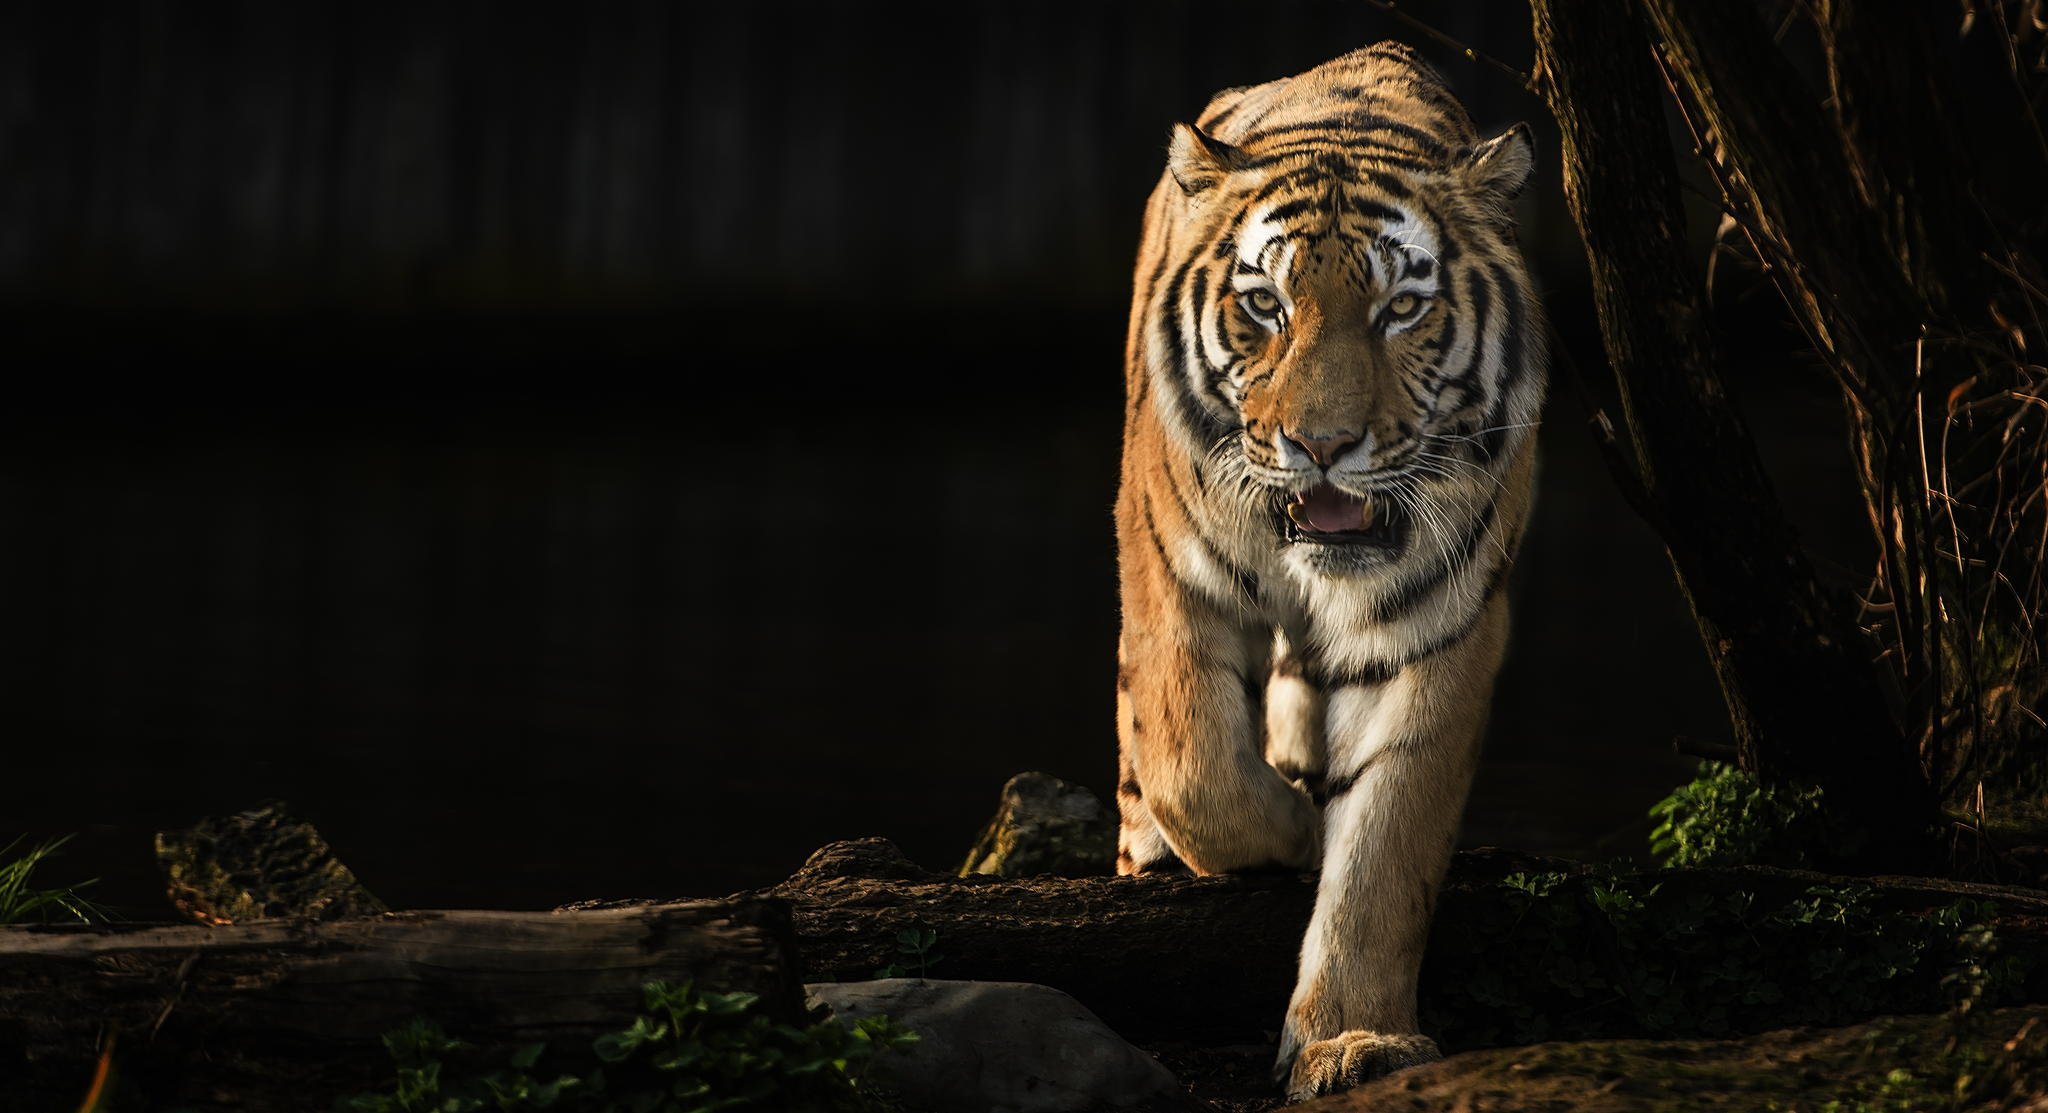tiger: (1090, 52, 1578, 1088)
